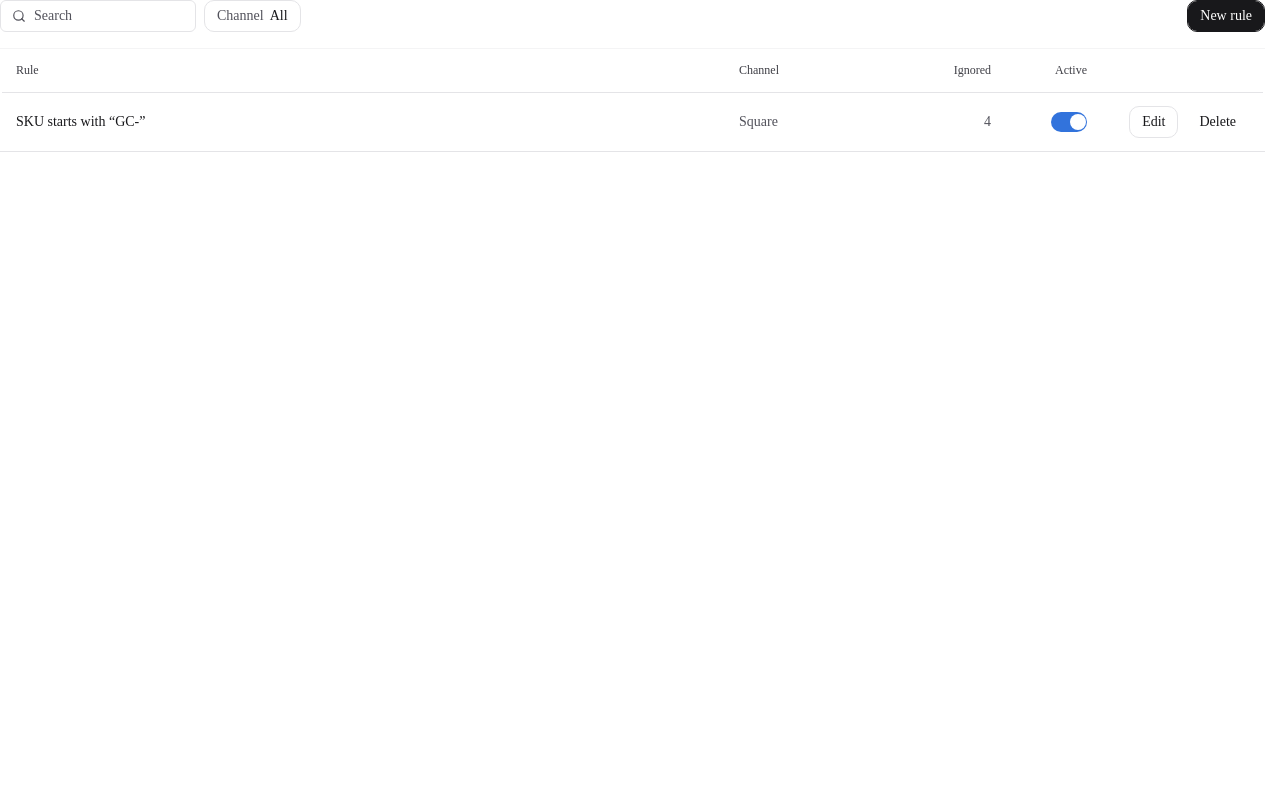
Test: IgnoreRulesTable › warns what a delete puts back before doing it
Click the button "Delete".
click(1218, 122)  # box [1186,106,1249,138]
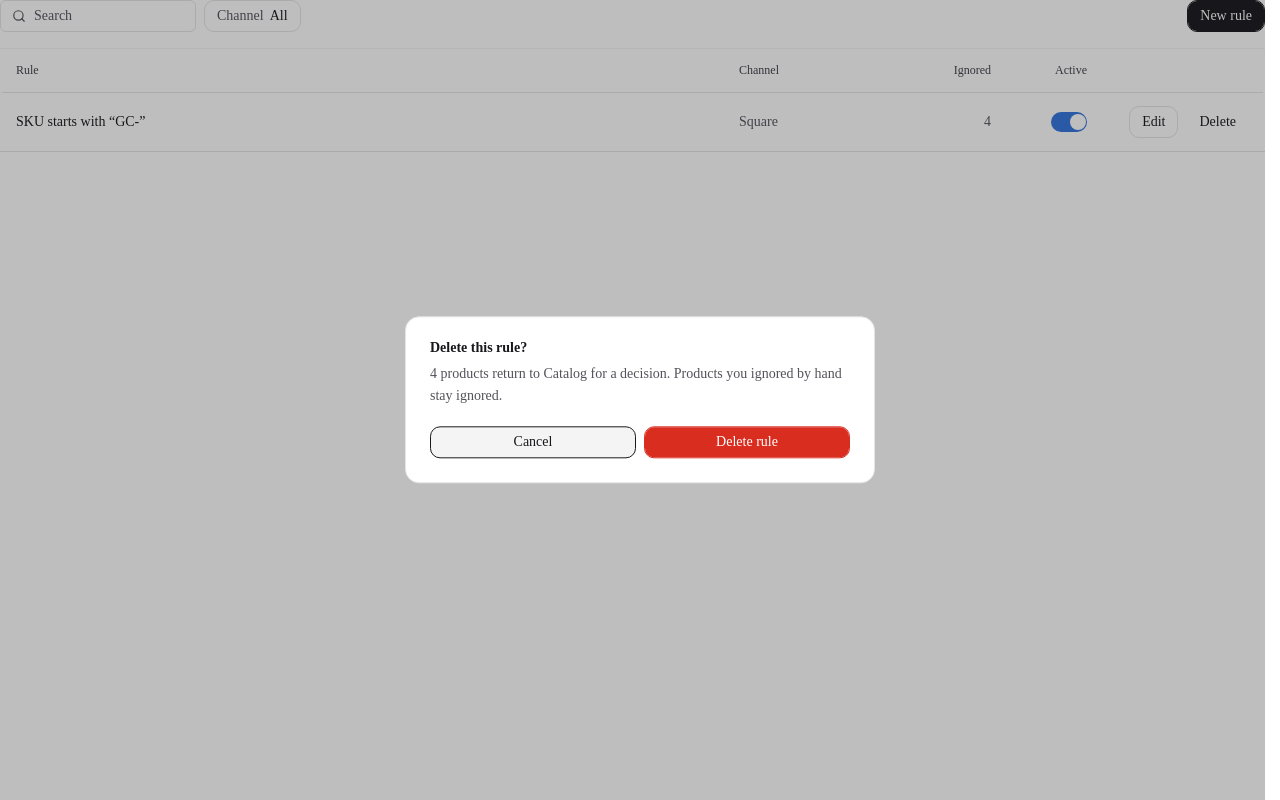
Expected: the text "4 products return to Catalog" is shown, [430,366,842,403]
